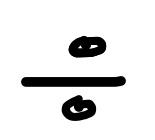div: (21, 35, 127, 121)
